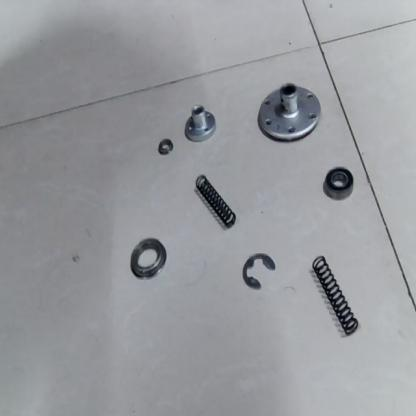FOD: (255, 76, 322, 148), (310, 250, 360, 342), (194, 171, 238, 232), (127, 233, 169, 281), (240, 249, 281, 296), (182, 103, 218, 145), (321, 164, 358, 202), (157, 136, 175, 157)
